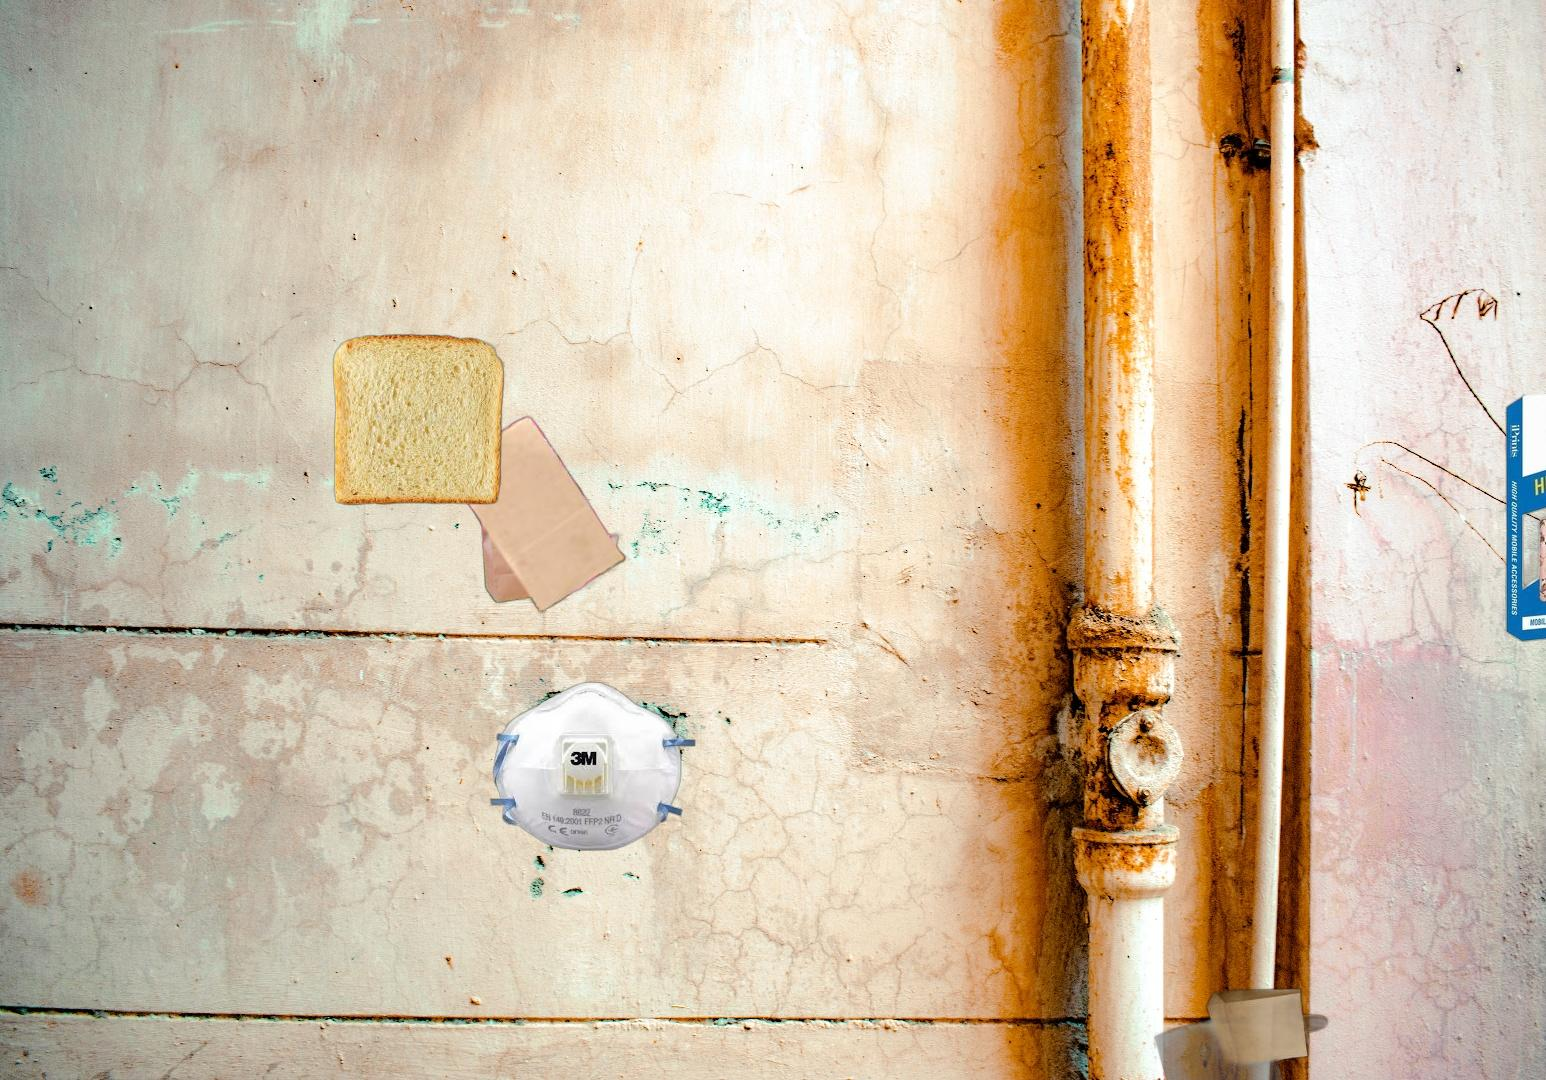biological: (330, 331, 508, 508)
paper-bag: (444, 412, 630, 628), (1132, 978, 1365, 1080)
trash: (486, 679, 701, 853)
trashbox-cardboard: (1495, 394, 1546, 644)
